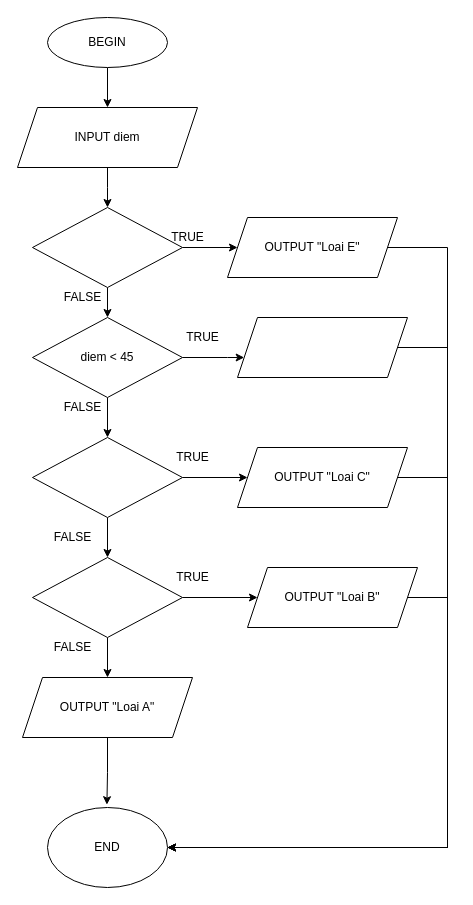
Some shapes in this 473 by 905 pixel diagram are drawn without their labels. Each missing label, with the centre of its shape:
diem < 35: pixel 107 247
diem < 60: pixel 107 477
diem < 75: pixel 107 597
OUTPUT "Loai D": pixel 322 347
